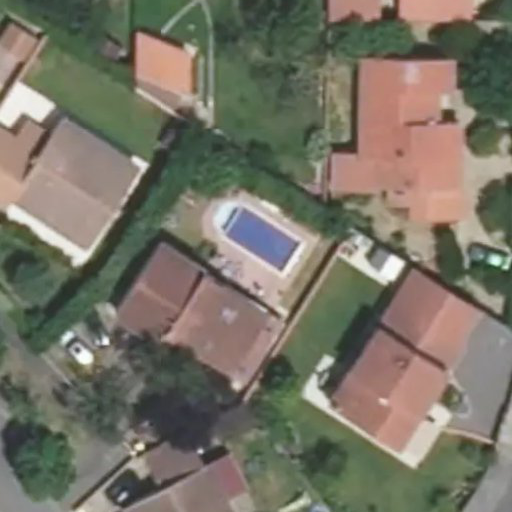pool: (213, 201, 302, 277)
